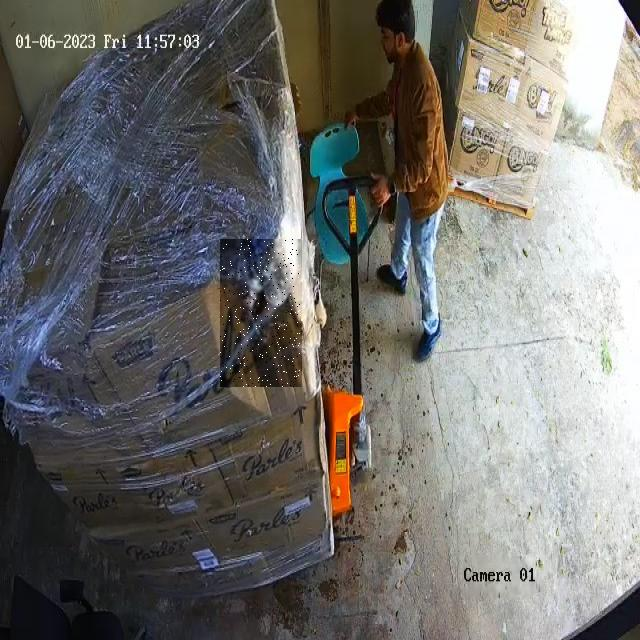squeeze: (221, 239, 300, 387)
